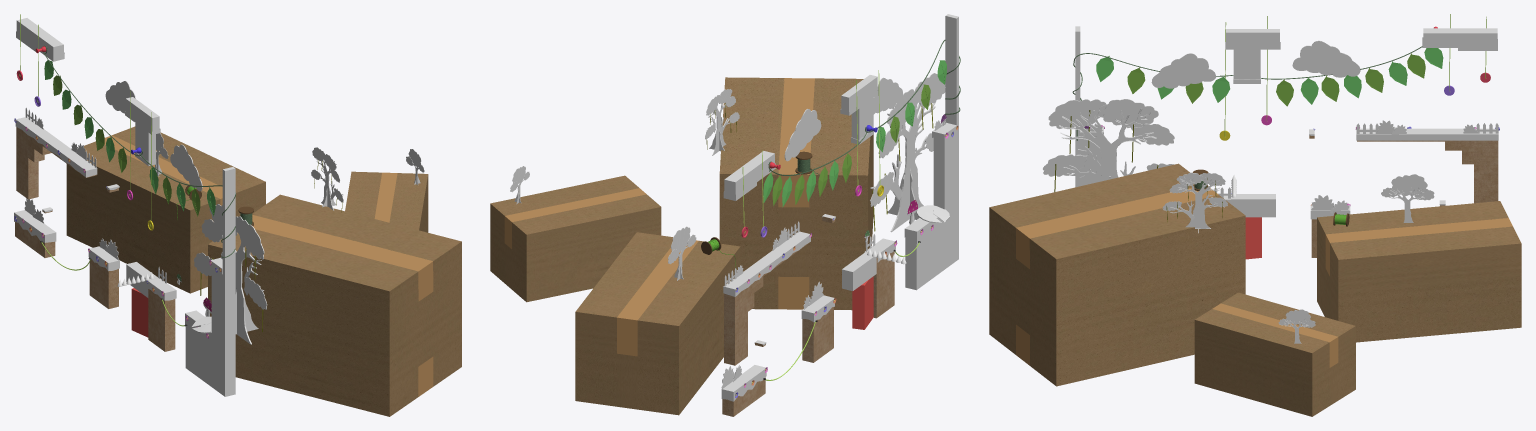
Rendered from Pantalla9-DEF.fbx.
3 views of the same model, side by side, from view 1: azimuth 30°, elevation 25°; view 2: azimuth 150°, elevation 25°; view 3: azimuth 270°, elevation 25° (orthographic). The views are drawn at different scales.
Parts seen in each view (by area): view 1: Caja_1, Cube, Pantalla_Obtención_Rana, Cube.001, Pantalla_Obtención_Rana.004, Arbol1.003, Arbol1.002, Cube.003, Nube.003, Arbol1.001, Nube.002, Arbol1.005 (+2 smaller); view 2: Caja_1, Cube, Cube.001, Pantalla_Obtención_Rana, Pantalla_Obtención_Rana.004, Arbol1.002, Cube.003, Arbol1.003, Arbol1.001, Nube.002, Nube.003, Arbol1.005 (+3 smaller); view 3: Caja_1, Cube, Cube.001, Pantalla_Obtención_Rana, Arbol1.003, Pantalla_Obtención_Rana.004, Arbol1.002, Arbol1.001, Cube.003, Nube.002, Nube.003, Arbol1.004 (+1 smaller).
Part boxes in pixels (x1,y1,x2,y2): Caja_1: [208, 194, 461, 416]; Cube: [66, 126, 265, 293]; Pantalla_Obtención_Rana: [15, 18, 235, 396]; Cube.001: [345, 171, 428, 232]; Pantalla_Obtención_Rana.004: [14, 31, 222, 342]; Arbol1.003: [194, 204, 267, 309]; Arbol1.002: [221, 241, 264, 344]; Cube.003: [126, 262, 157, 337]; Nube.003: [170, 144, 202, 191]; Arbol1.001: [155, 133, 424, 184]; Nube.002: [105, 81, 135, 113]; Arbol1.005: [311, 147, 343, 202]; Caja_1: [719, 77, 873, 310]; Cube: [575, 232, 740, 415]; Cube.001: [490, 175, 661, 302]; Pantalla_Obtención_Rana: [722, 14, 958, 416]; Pantalla_Obtención_Rana.004: [721, 90, 956, 401]; Arbol1.002: [870, 101, 936, 232]; Cube.003: [842, 252, 876, 329]; Arbol1.003: [870, 73, 945, 206]; Arbol1.001: [510, 166, 696, 280]; Nube.002: [784, 109, 821, 161]; Nube.003: [873, 77, 902, 114]; Arbol1.005: [705, 89, 739, 139]; Caja_1: [989, 163, 1245, 386]; Cube: [1317, 201, 1521, 342]; Cube.001: [1194, 292, 1355, 416]; Pantalla_Obtención_Rana: [1075, 26, 1498, 257]; Arbol1.003: [1043, 99, 1174, 176]; Pantalla_Obtención_Rana.004: [1080, 37, 1498, 219]; Arbol1.002: [1059, 108, 1156, 182]; Arbol1.001: [1278, 174, 1434, 343]; Cube.003: [1231, 194, 1275, 259]; Nube.002: [1292, 40, 1360, 77]; Nube.003: [1151, 53, 1216, 88]; Arbol1.004: [1170, 177, 1220, 233].
Size of the model in its own units: 7664 by 5371 by 9992.
